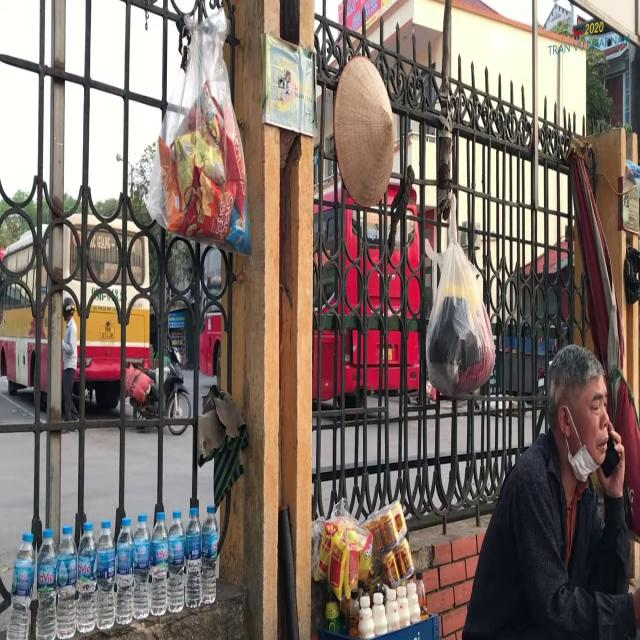bien_vang: (99, 324, 116, 341)
